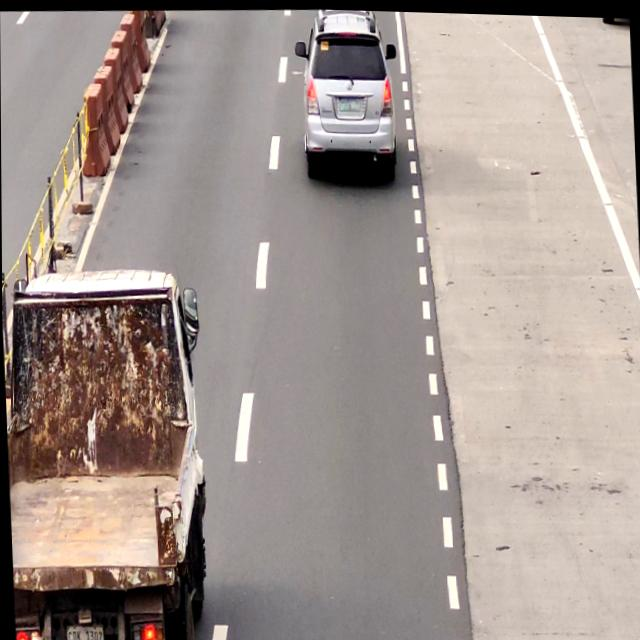Car: (300, 7, 400, 186)
License-Plate: (64, 620, 104, 640), (337, 90, 361, 112)
Truck: (2, 263, 209, 640)
